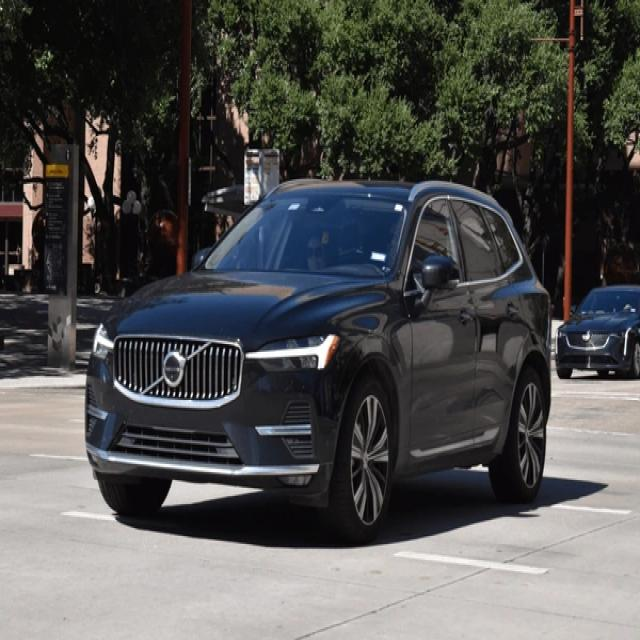volvo: (160, 351, 188, 394)
